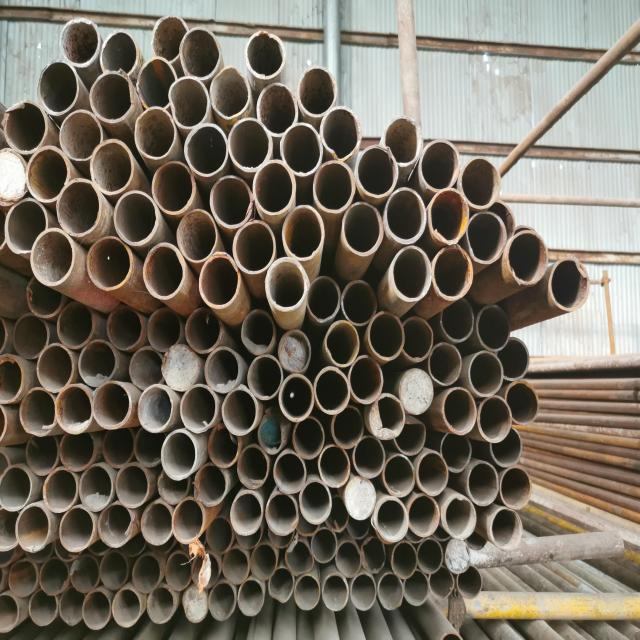pipe: (29, 227, 75, 290), (112, 188, 160, 248), (386, 243, 434, 303), (24, 144, 72, 203), (56, 177, 102, 238), (318, 104, 364, 165), (227, 116, 274, 175), (2, 98, 49, 156), (208, 173, 255, 231), (4, 197, 50, 256), (280, 204, 326, 263), (382, 186, 427, 246), (88, 68, 136, 124), (426, 185, 470, 246), (183, 121, 229, 179), (230, 218, 276, 276), (311, 158, 357, 216), (89, 137, 134, 196), (252, 158, 297, 217), (86, 235, 132, 292), (150, 159, 196, 216), (505, 228, 550, 286), (36, 59, 80, 118), (264, 254, 308, 313), (141, 241, 184, 301), (198, 250, 241, 310), (279, 121, 324, 178), (354, 143, 399, 200), (430, 244, 474, 302), (166, 75, 212, 130), (133, 104, 178, 160), (134, 55, 178, 112), (341, 200, 384, 258), (548, 256, 591, 314), (58, 108, 104, 162), (174, 208, 218, 264), (465, 209, 508, 266), (294, 64, 338, 119), (179, 25, 222, 81), (209, 64, 252, 120), (418, 138, 460, 195), (458, 157, 503, 210), (256, 82, 299, 137), (97, 27, 139, 80), (382, 114, 424, 167), (89, 378, 131, 431), (244, 29, 286, 81), (160, 342, 202, 393), (58, 503, 100, 554), (365, 310, 406, 362), (202, 344, 244, 394), (18, 385, 58, 437), (54, 383, 94, 435), (178, 382, 218, 434), (346, 353, 385, 406), (36, 342, 74, 396), (150, 14, 190, 65), (313, 365, 352, 417), (159, 429, 198, 481), (77, 339, 118, 388), (58, 17, 98, 67), (10, 312, 50, 362), (184, 305, 224, 355), (220, 386, 260, 436), (340, 277, 379, 328), (278, 372, 316, 424), (56, 301, 96, 350), (245, 353, 284, 403), (136, 382, 173, 434), (238, 306, 276, 356), (474, 302, 512, 352), (440, 386, 478, 436), (476, 393, 513, 444), (15, 502, 52, 553), (0, 145, 29, 210), (128, 345, 166, 394), (77, 464, 115, 513), (146, 304, 183, 354), (324, 317, 360, 368), (439, 293, 475, 344), (468, 348, 504, 399), (502, 378, 540, 426), (398, 314, 434, 364), (368, 392, 404, 442), (306, 273, 341, 324), (494, 335, 531, 383), (373, 495, 410, 543), (97, 501, 134, 549), (42, 466, 79, 514), (398, 368, 434, 417), (104, 306, 142, 352), (58, 427, 96, 473), (276, 327, 312, 375), (329, 403, 365, 451), (114, 462, 150, 510), (139, 500, 175, 547), (415, 450, 450, 498), (171, 496, 206, 544), (316, 443, 352, 489), (0, 463, 33, 513), (207, 422, 242, 469), (273, 449, 307, 497), (25, 274, 62, 318), (427, 341, 463, 386), (25, 432, 60, 478), (351, 434, 386, 480), (466, 462, 501, 508), (406, 492, 441, 538), (342, 476, 377, 522), (298, 478, 332, 525), (132, 426, 169, 469), (193, 463, 229, 507), (488, 194, 516, 250), (443, 495, 477, 541), (265, 490, 299, 536), (489, 505, 522, 552), (488, 426, 524, 469), (291, 416, 325, 461), (438, 430, 472, 475), (229, 491, 263, 536), (383, 452, 416, 498), (391, 415, 426, 457), (237, 444, 268, 491), (499, 466, 532, 510), (102, 427, 135, 470), (0, 352, 25, 406), (157, 466, 190, 506), (38, 556, 71, 596), (81, 588, 112, 630), (320, 570, 350, 612), (7, 558, 39, 597), (98, 550, 129, 590), (111, 588, 142, 628), (207, 580, 237, 621), (70, 554, 100, 594), (131, 554, 161, 594), (190, 551, 220, 591), (28, 588, 58, 628), (164, 551, 193, 592), (349, 570, 377, 612), (205, 515, 234, 555), (334, 539, 363, 579), (415, 536, 444, 576), (146, 584, 175, 624), (249, 542, 277, 583), (390, 540, 418, 581), (220, 547, 250, 585), (402, 567, 430, 607), (376, 571, 404, 611), (58, 586, 86, 626), (284, 540, 314, 577), (257, 416, 284, 456), (0, 503, 22, 552), (310, 526, 338, 564), (359, 536, 387, 574), (267, 566, 295, 604), (181, 586, 209, 624), (237, 578, 264, 617), (427, 564, 455, 601), (322, 496, 349, 533), (444, 537, 471, 574), (293, 574, 320, 611), (456, 564, 482, 600), (0, 591, 20, 635), (266, 522, 296, 549), (235, 521, 263, 549), (346, 512, 370, 540)
